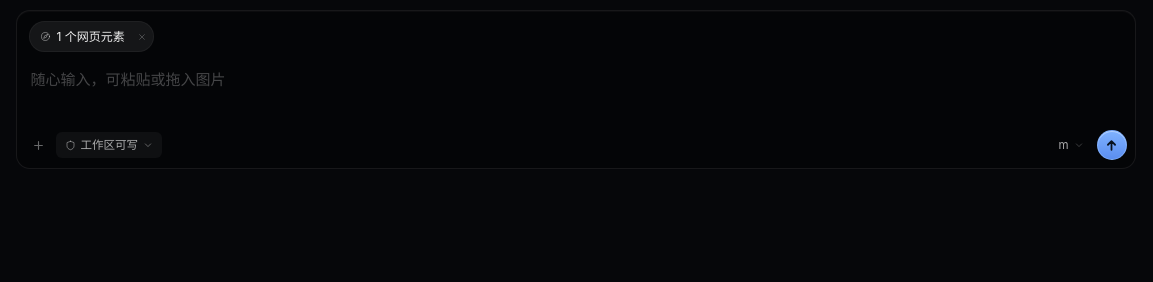
Scenario: 网页元素附件 › 点 chip 展开预览，显示标签/尺寸/颜色/内容/选择器
The width and height of the screenshot is (1153, 282).
Click the button with class "attach-open". click: (80, 37)
box: x1=30 y1=22 x2=131 y2=51
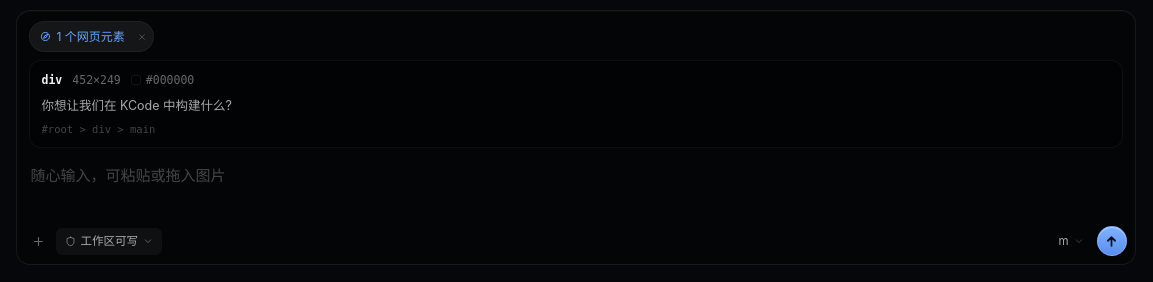
Check: the element with class "attach-preview" shows "div", box x1=42 y1=73 x2=62 y2=87
Check: the element with class "attach-preview" shows "452×249", box x1=28 y1=60 x2=1122 y2=148
Check: the element with class "attach-preview" shows "#000000", box x1=146 y1=73 x2=194 y2=87
